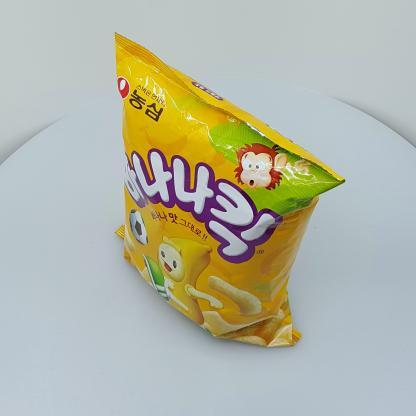Plastic Packaging: (104, 25, 350, 356)
